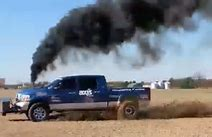smoke: (28, 1, 212, 82)
